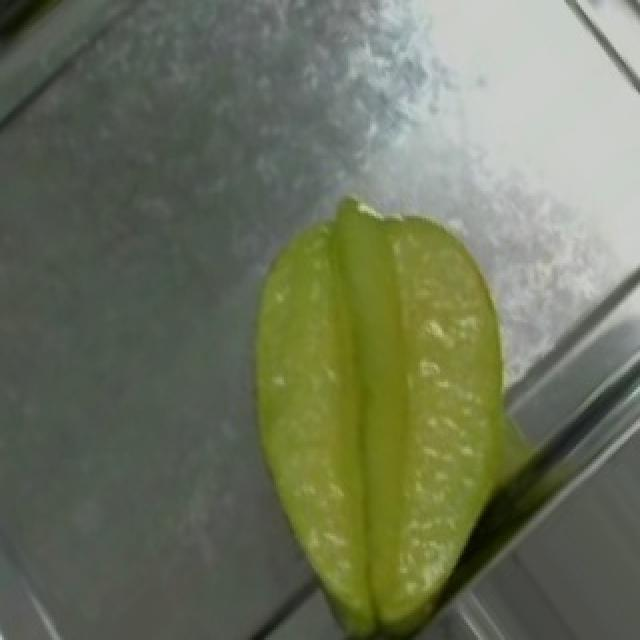fruit: (132, 159, 590, 600)
